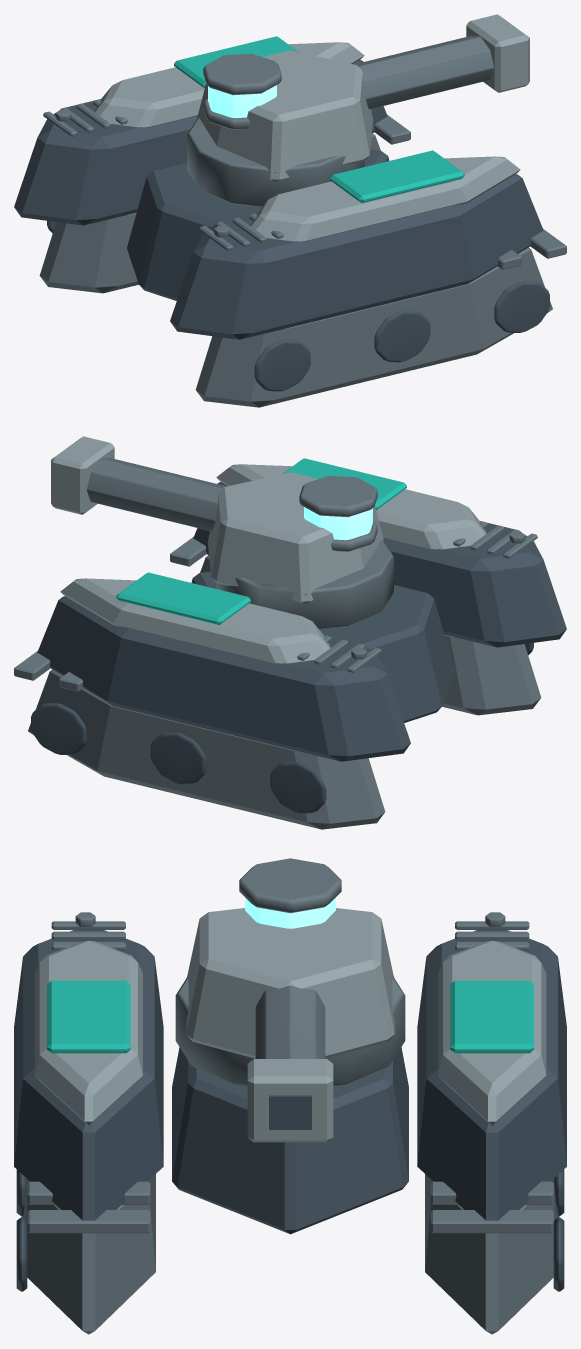
File: SM_Anvil.fbx
3 renders of one model, top to bottom at view 1: azimuth 30°, elevation 25°; view 2: azimuth 150°, elevation 25°; view 3: azimuth 270°, elevation 25°, orthographic. The views are drawn at different scales.
Visible parts, largest first — view 1: SM_Anvil; view 2: SM_Anvil; view 3: SM_Anvil.
Part boxes in pixels (x1,y1,x2,y2): SM_Anvil: (14, 14, 566, 407); SM_Anvil: (14, 436, 566, 829); SM_Anvil: (14, 858, 566, 1334).
Size of the model in its own units: 68 by 59.69 by 38.
